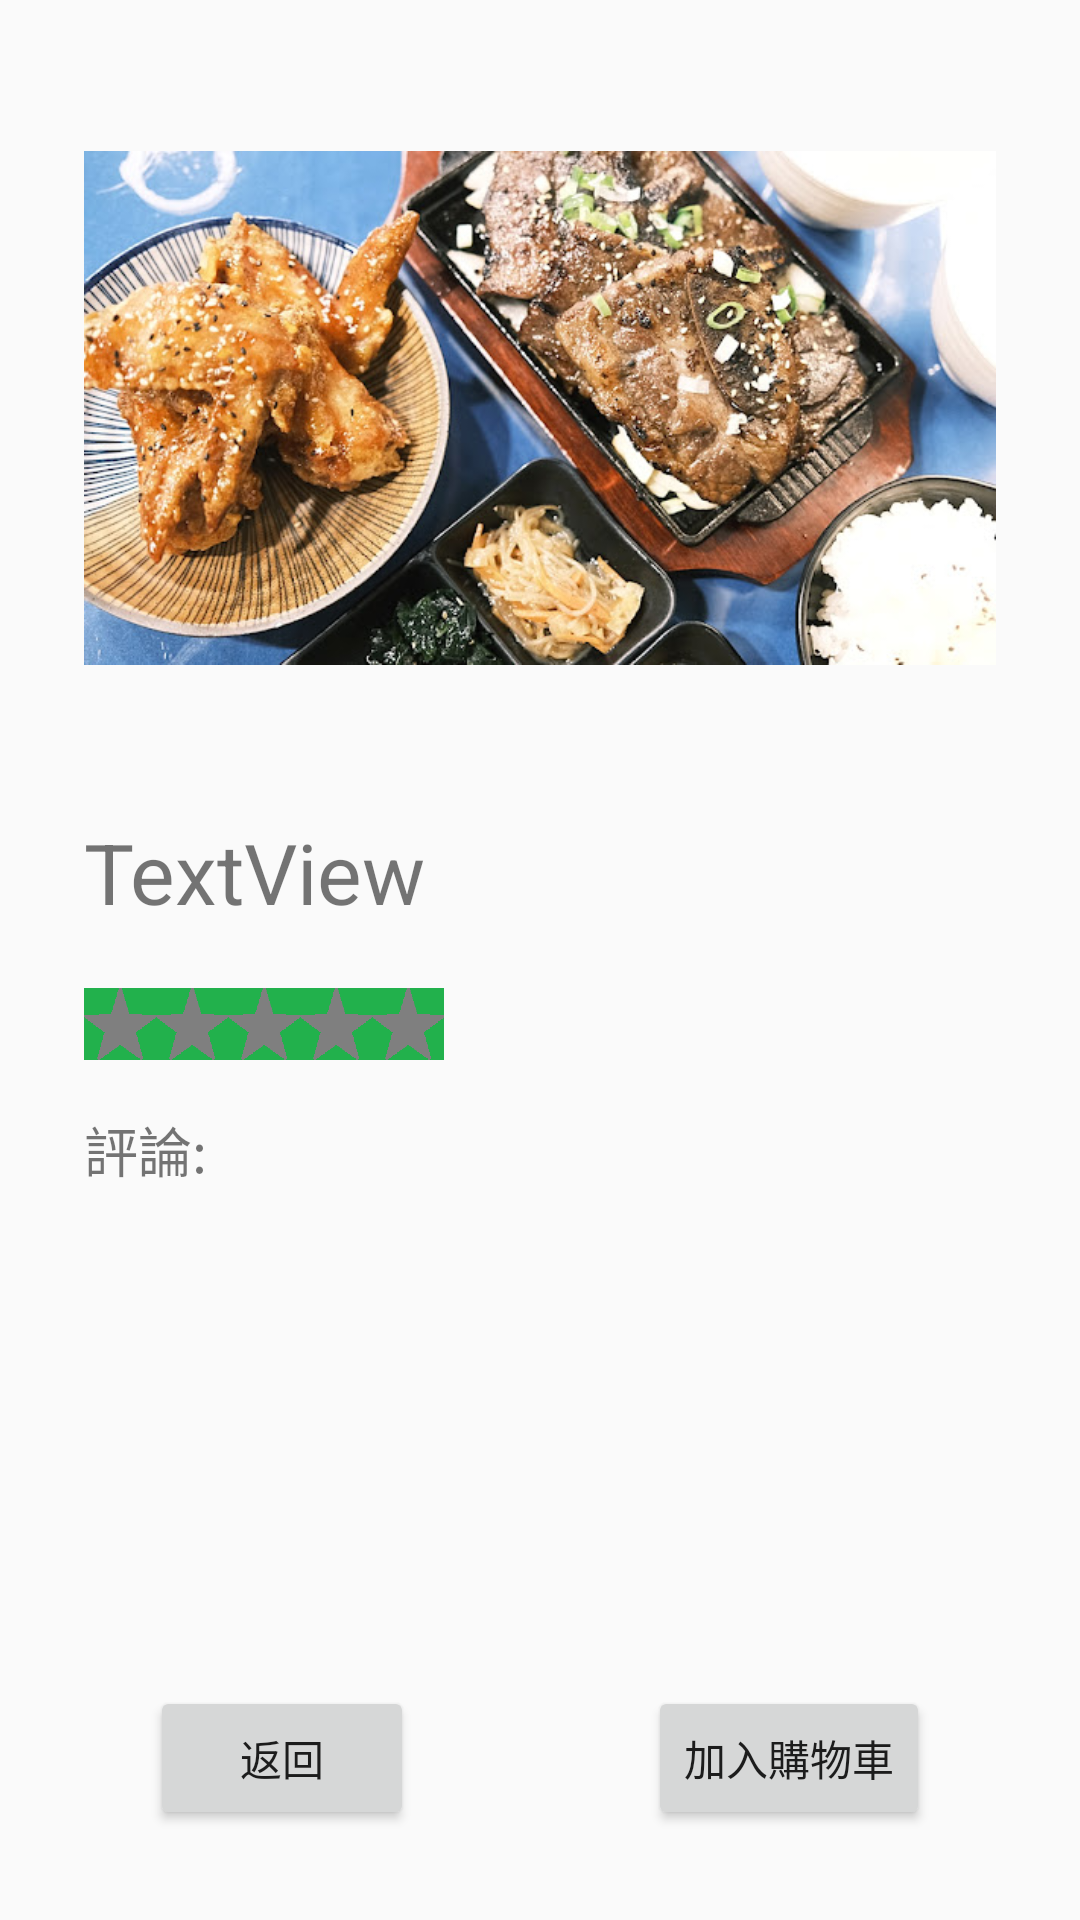

Named icons in this screenshot (1080px×1920px) and their bounding boxes, detection(x1, y1, x2, y2):
nostar: detection(84, 988, 444, 1060)
